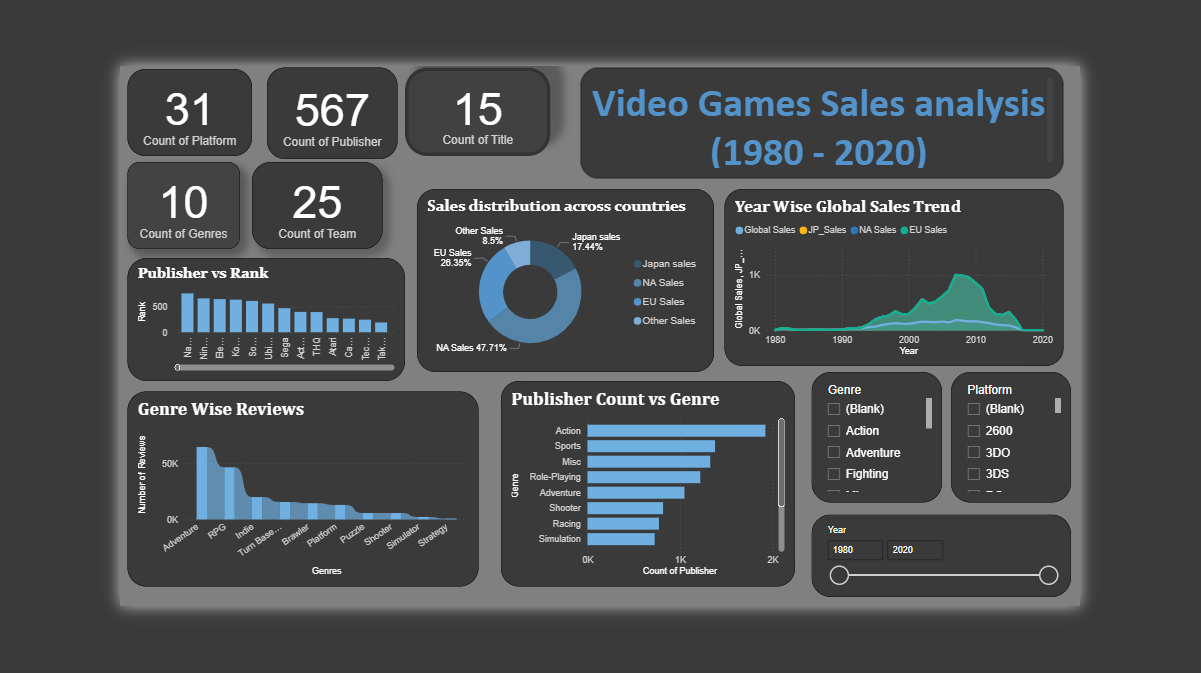

What the dashboard file says about the page in this screenshot:
{"tool":"powerbi","page":{"name":"Page 1","canvas":[1280,720],"ordinal":0},"visuals":[{"type":"card","fields":{"Values":["Count(video_games_sales_db vgsales_cleaned.Platform)"]},"box":[10,4,166,116],"z":0},{"type":"card","fields":{"Values":["Count(video_games_sales_db games_cleaned.Team)"]},"box":[176,128,174,116],"z":1000},{"type":"card","fields":{"Values":["Count(video_games_sales_db vgsales_cleaned.Publisher)"]},"box":[196,2,174,122],"z":2000},{"type":"card","fields":{"Values":["Count(video_games_sales_db games_cleaned.Genres)"]},"box":[10,128,150,116],"z":3000},{"type":"donutChart","title":"Sales distribution across countries","fields":{"Y":["Sum(video_games_sales_db vgsales_cleaned.JP_Sales)","Sum(video_games_sales_db vgsales_cleaned.NA_Sales)","Sum(video_games_sales_db vgsales_cleaned.EU_Sales)","Sum(video_games_sales_db vgsales_cleaned.Other_Sales)"]},"box":[396,164,396,244],"z":4000},{"type":"ribbonChart","title":"Genre Wise Reviews","fields":{"Y":["Sum(video_games_sales_db games_cleaned.Number of Reviews)"],"Category":["video_games_sales_db games_cleaned.Genres"]},"box":[10,434,468,260],"z":5000},{"type":"lineChart","title":"Year Wise Global Sales Trend","fields":{"Y":["Count(video_games_sales_db vgsales_cleaned.Global_Sales)","CountNonNull(video_games_sales_db vgsales_cleaned.JP_Sales)","CountNonNull(video_games_sales_db vgsales_cleaned.NA_Sales)","CountNonNull(video_games_sales_db vgsales_cleaned.EU_Sales)"],"Category":["video_games_sales_db vgsales_cleaned.Year"]},"box":[806,164,452,236],"z":6000},{"type":"columnChart","title":"Publisher vs Rank","fields":{"Y":["CountNonNull(video_games_sales_db vgsales_cleaned.Rank)"],"Category":["video_games_sales_db vgsales_cleaned.Publisher"]},"box":[10,256,370,164],"z":7000},{"type":"slicer","fields":{"Values":["video_games_sales_db vgsales_cleaned.Year"]},"box":[922,598,346,110],"z":8000},{"type":"barChart","title":"Publisher Count vs Genre","fields":{"Category":["video_games_sales_db vgsales_cleaned.Genre"],"Y":["CountNonNull(video_games_sales_db vgsales_cleaned.Publisher)"]},"box":[508,420,392,274],"z":9000},{"type":"slicer","fields":{"Values":["video_games_sales_db vgsales_cleaned.Platform"]},"box":[1108,408,160,174],"z":10000},{"type":"slicer","fields":{"Values":["video_games_sales_db vgsales_cleaned.Genre"]},"box":[922,408,174,174],"z":11000},{"type":"card","title":"Count of heading ","fields":{"Values":["Count(video_games_sales_db games_cleaned.Title)"]},"box":[380,2,194,118],"z":12000},{"type":"textbox","box":[614,2,644,148],"z":13000}]}

Visuals, with their boxes in screenshot pixels (x1, y1, x2, y2), scaled from the page's 1280x720 canvas onto the 1201x673 screenshot:
card - Count(video_games_sales_db vgsales_cleaned.Platform): [9,4,165,112]
card - Count(video_games_sales_db games_cleaned.Team): [165,120,328,228]
card - Count(video_games_sales_db vgsales_cleaned.Publisher): [184,2,347,116]
card - Count(video_games_sales_db games_cleaned.Genres): [9,120,150,228]
"Sales distribution across countries" donutChart: [372,153,743,381]
"Genre Wise Reviews" ribbonChart: [9,406,448,649]
"Year Wise Global Sales Trend" lineChart: [756,153,1180,374]
"Publisher vs Rank" columnChart: [9,239,357,393]
slicer - video_games_sales_db vgsales_cleaned.Year: [865,559,1190,662]
"Publisher Count vs Genre" barChart: [477,393,844,649]
slicer - video_games_sales_db vgsales_cleaned.Platform: [1040,381,1190,544]
slicer - video_games_sales_db vgsales_cleaned.Genre: [865,381,1028,544]
"Count of heading " card: [357,2,539,112]
textbox: [576,2,1180,140]
